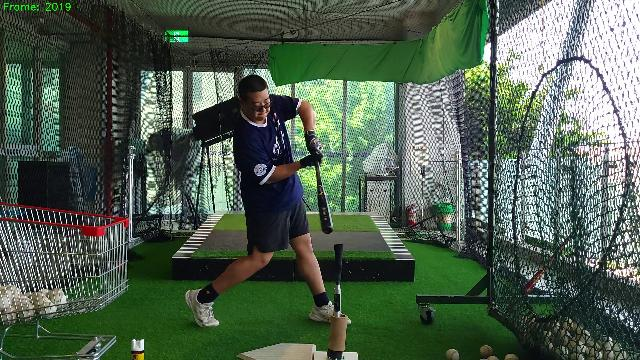baseball bat: (314, 160, 334, 234)
